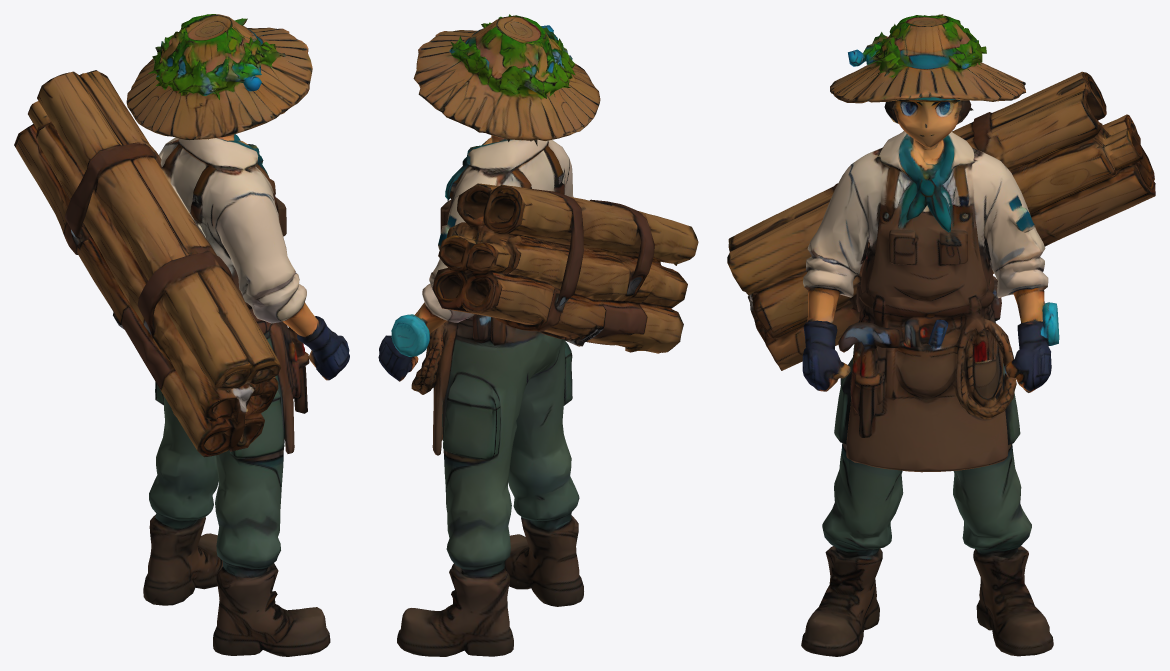
Rendered from r2_builder.e5dcf911.glb.
The picture shows the model from 3 angles, left to right: view 1: azimuth 30°, elevation 25°; view 2: azimuth 150°, elevation 25°; view 3: azimuth 270°, elevation 25°; orthographic projection.
Parts seen in each view (by area): view 1: tripo_node_ba8404a0-aa9a-4010-8a29-2ae9370adf81; view 2: tripo_node_ba8404a0-aa9a-4010-8a29-2ae9370adf81; view 3: tripo_node_ba8404a0-aa9a-4010-8a29-2ae9370adf81.
Part boxes in pixels (x1,y1,x2,y2): tripo_node_ba8404a0-aa9a-4010-8a29-2ae9370adf81: (14, 14, 349, 656); tripo_node_ba8404a0-aa9a-4010-8a29-2ae9370adf81: (378, 14, 698, 656); tripo_node_ba8404a0-aa9a-4010-8a29-2ae9370adf81: (727, 14, 1155, 656).
Size of the model in its own units: 0.3258 by 0.9996 by 0.6368.
1 material, 1 textured.
